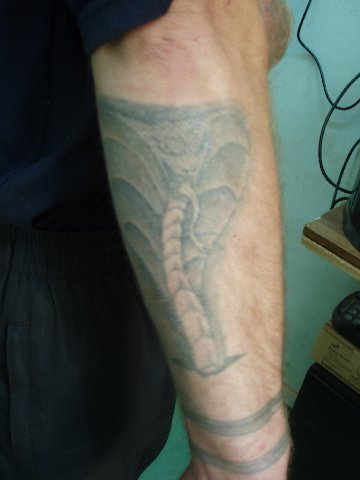tatu7_zmeya: (88, 78, 265, 377)
